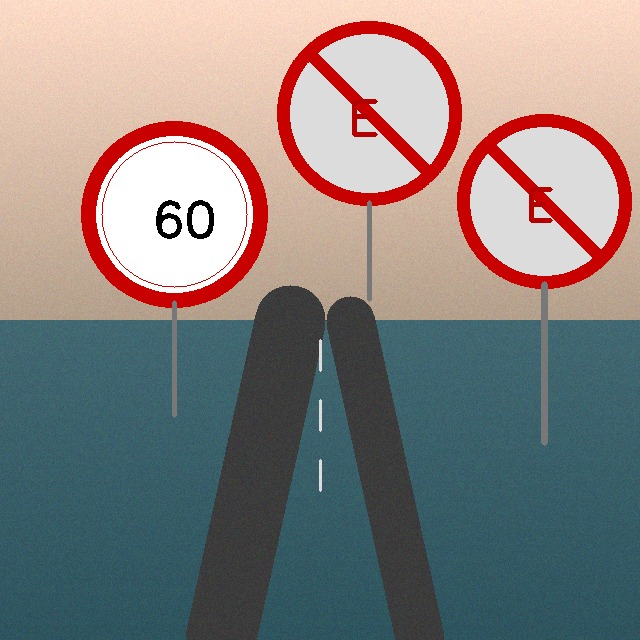no_estacionar: (281, 25, 458, 202), (461, 118, 627, 284)
velocidad: (86, 126, 262, 302)
